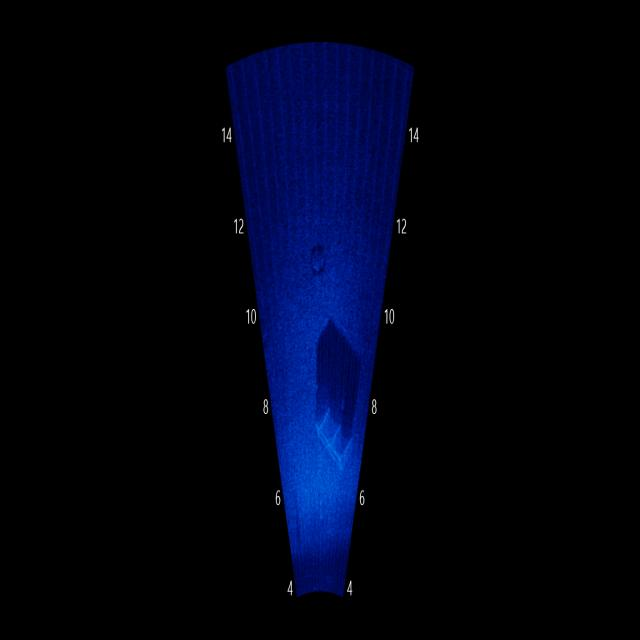square: (318, 395, 358, 482)
